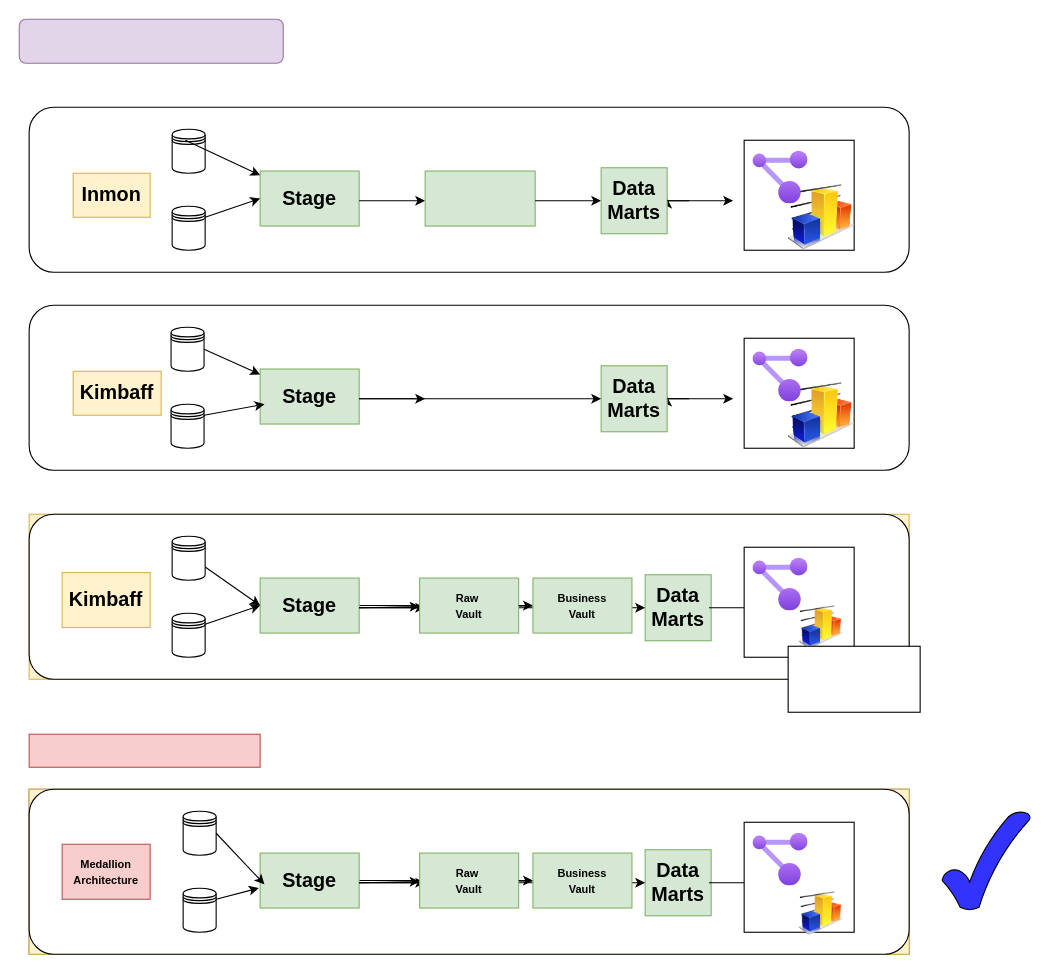
This 1049x974 diagram has some shape labels left out. Here are the shapes that lost their labels. From the top down, the centre of each, then its label:
the point at 150,40: Data Architecture Approach
the point at 479,198: EDW
the point at 144,750: I'm going to follow:
